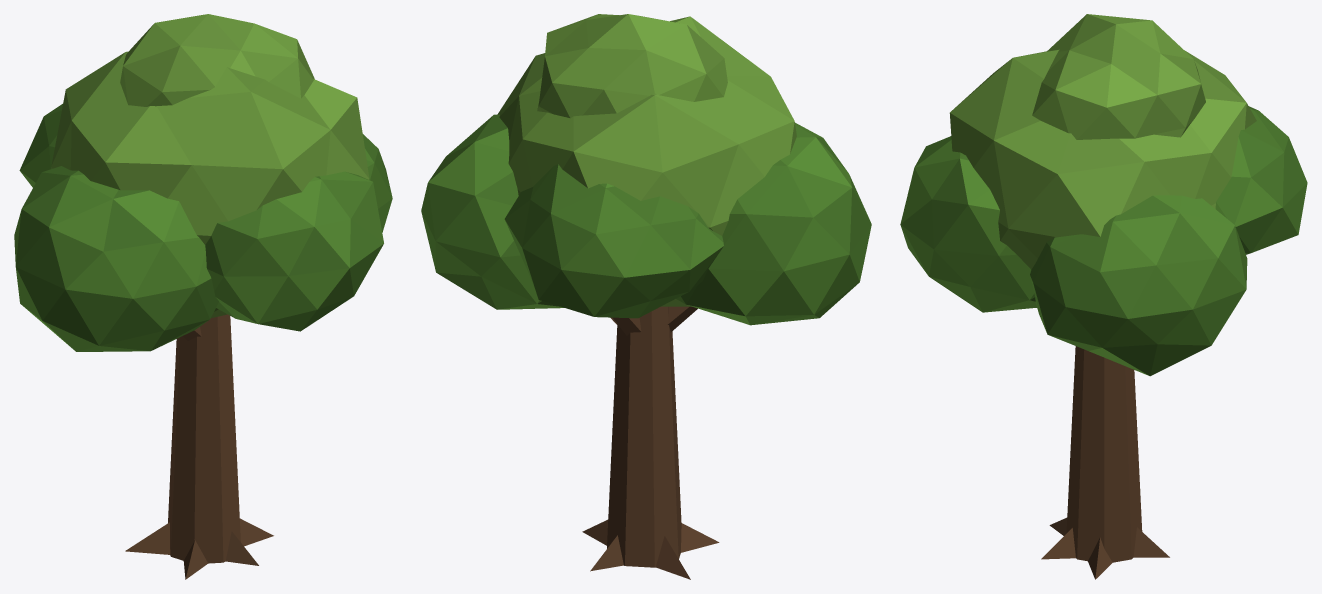
Rendered from oak_a.glb.
The picture shows the model from 3 angles, left to right: view 1: azimuth 30°, elevation 25°; view 2: azimuth 150°, elevation 25°; view 3: azimuth 270°, elevation 25°; orthographic projection. The views are drawn at different scales.
Visible parts, largest first — view 1: oak_a; view 2: oak_a; view 3: oak_a.
Boxes of the visible parts, left/top/right/bottom form: oak_a: left=14, top=14, right=392, bottom=579; oak_a: left=421, top=14, right=871, bottom=579; oak_a: left=900, top=14, right=1307, bottom=579.
Size of the model in its own units: 3.84 by 4.98 by 3.48.
Materials: 1 (1 with a texture image).
